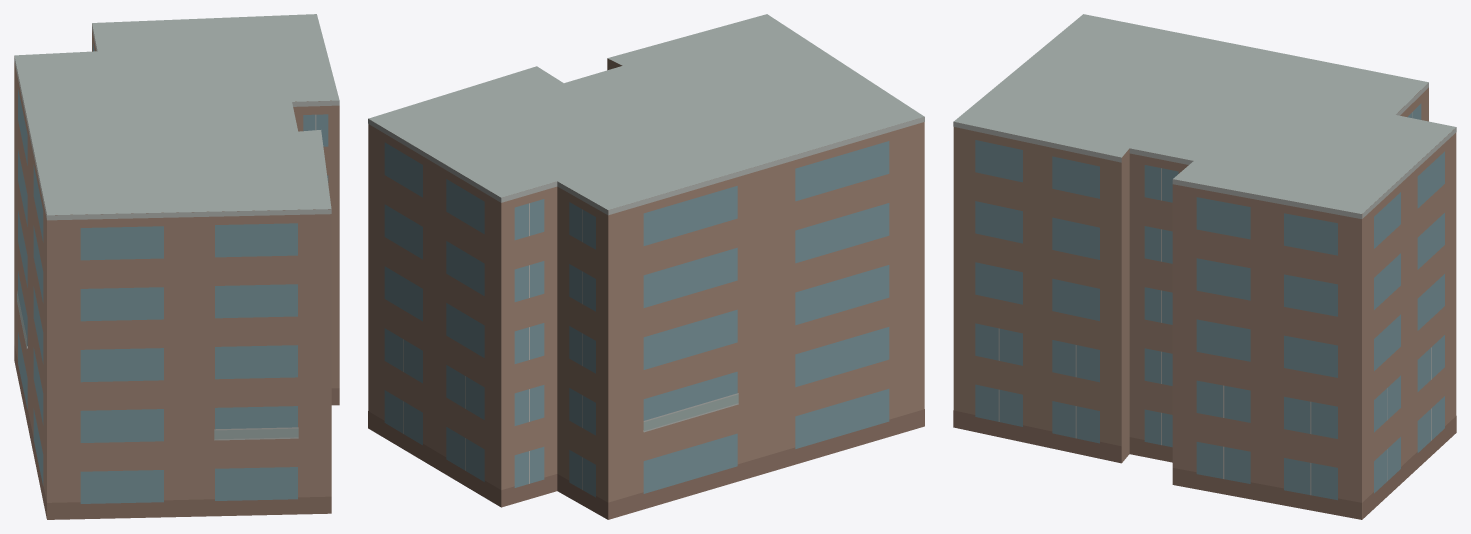
Rendered from survey-upis-32934305.glb.
The picture shows the model from 3 angles, left to right: view 1: azimuth 30°, elevation 25°; view 2: azimuth 150°, elevation 25°; view 3: azimuth 270°, elevation 25°; orthographic projection.
Visible parts, largest first — view 1: survey-upis-32934305.tmp; view 2: survey-upis-32934305.tmp; view 3: survey-upis-32934305.tmp.
Part boxes in pixels (bbox=[...]): survey-upis-32934305.tmp: bbox=[14, 14, 339, 519]; survey-upis-32934305.tmp: bbox=[368, 14, 924, 519]; survey-upis-32934305.tmp: bbox=[953, 14, 1456, 519].
Bounding box in the file's own units: 20.57 × 14.65 × 21.85.
